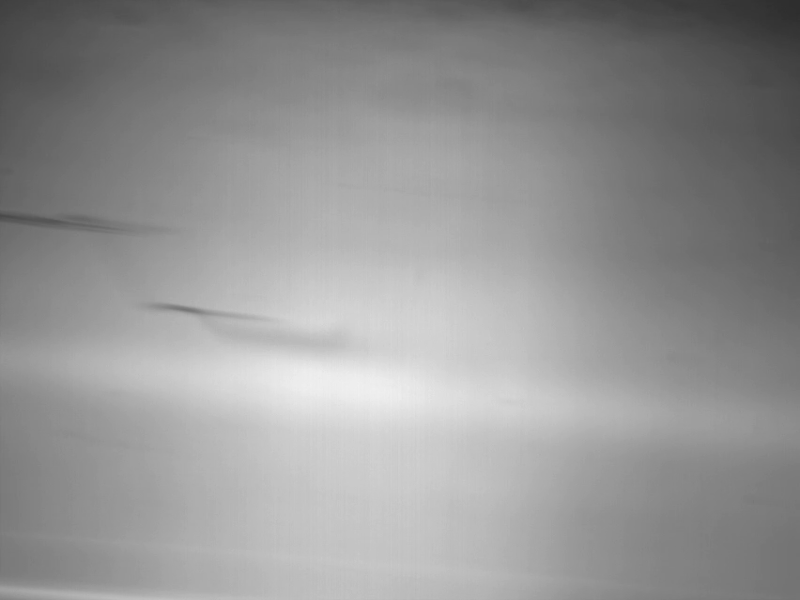fiber: (132, 296, 345, 358), (1, 204, 186, 244)
